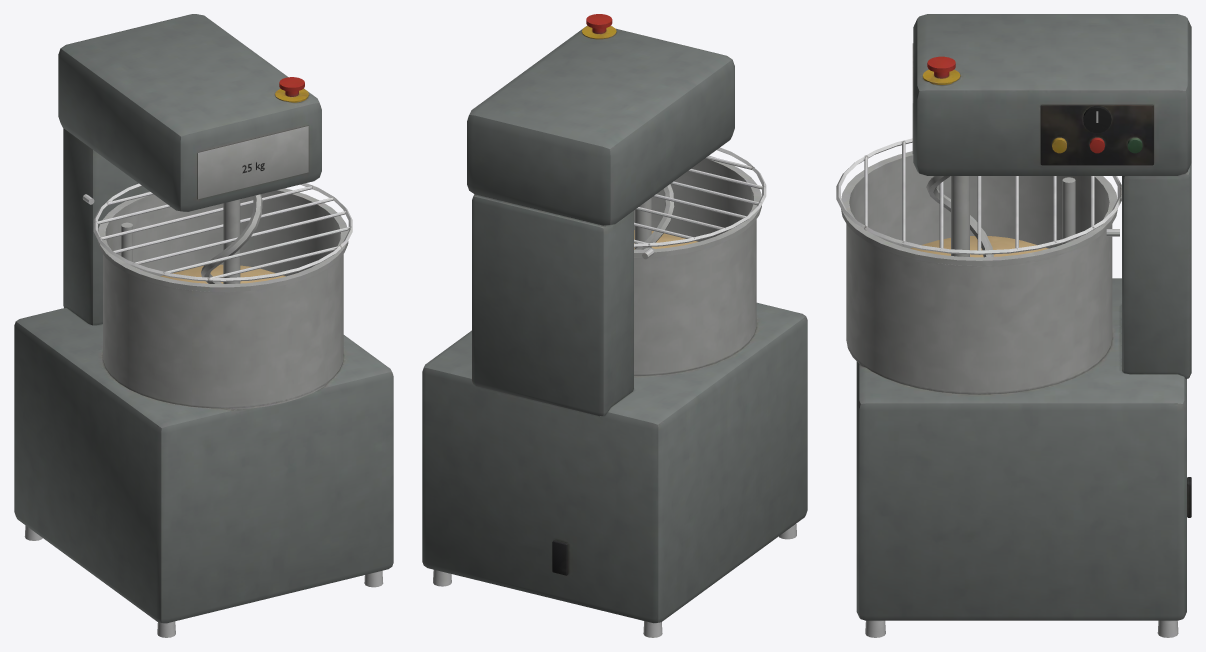
File: masseira.glb
The picture shows the model from 3 angles, left to right: view 1: azimuth 30°, elevation 25°; view 2: azimuth 150°, elevation 25°; view 3: azimuth 270°, elevation 25°; orthographic projection. The views are drawn at different scales.
Visible parts, largest first — view 1: masseira; view 2: masseira; view 3: masseira.
Boxes of the visible parts, x1,y1,x2,y2 form: masseira: [14, 14, 393, 637]; masseira: [422, 14, 807, 637]; masseira: [836, 14, 1191, 637].
Bounding box in the file's own units: 0.64 × 1.27 × 0.7533.
1 material, 1 textured.
